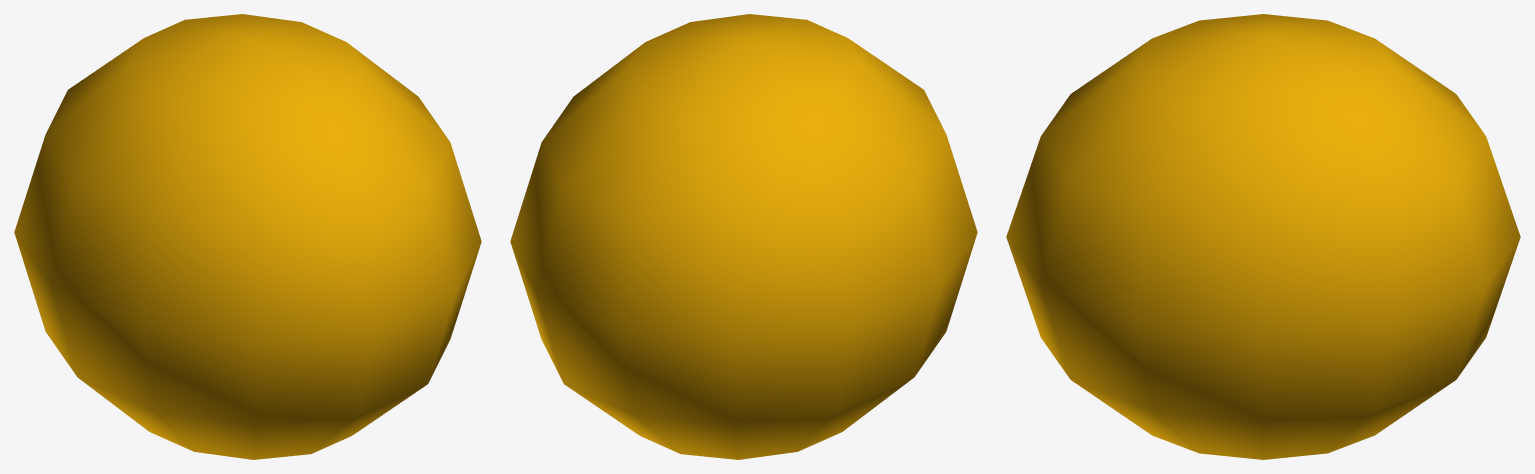
The model's file is functionality_pickup.FBX.
The picture shows the model from 3 angles, left to right: view 1: azimuth 30°, elevation 25°; view 2: azimuth 150°, elevation 25°; view 3: azimuth 270°, elevation 25°; orthographic projection.
Visible parts, largest first — view 1: pickup_trigger; view 2: pickup_trigger; view 3: pickup_trigger.
Boxes of the visible parts, x1,y1,x2,y2 form: pickup_trigger: (14, 14, 481, 459); pickup_trigger: (510, 14, 977, 459); pickup_trigger: (1006, 14, 1520, 459).
Bounding box in the file's own units: 20.65 × 19.78 × 22.94.
